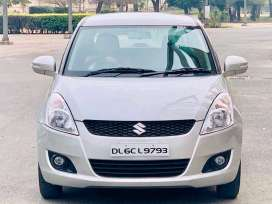license_plate: (109, 143, 171, 159)
